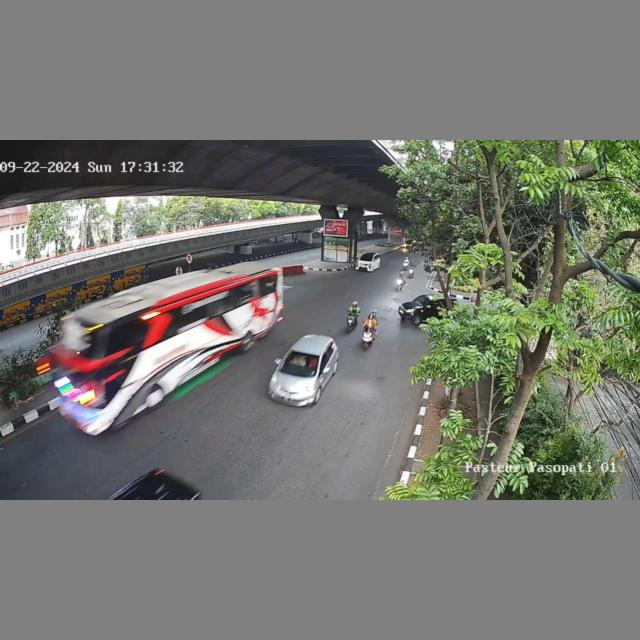windshield: (280, 352, 321, 374)
